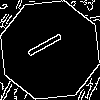I: (25, 25, 73, 60)
